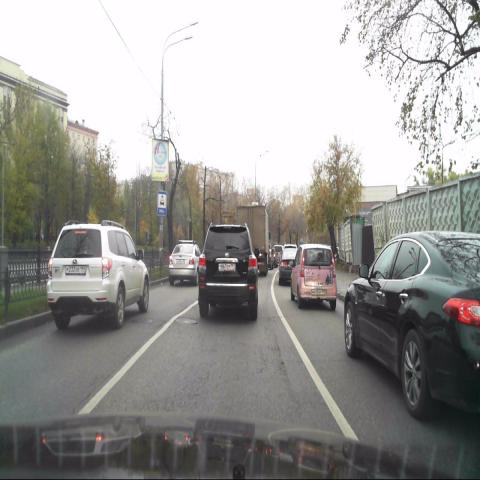7_5: (158, 190, 168, 214)
